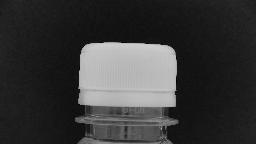Loose Cap: (72, 86, 180, 128)
